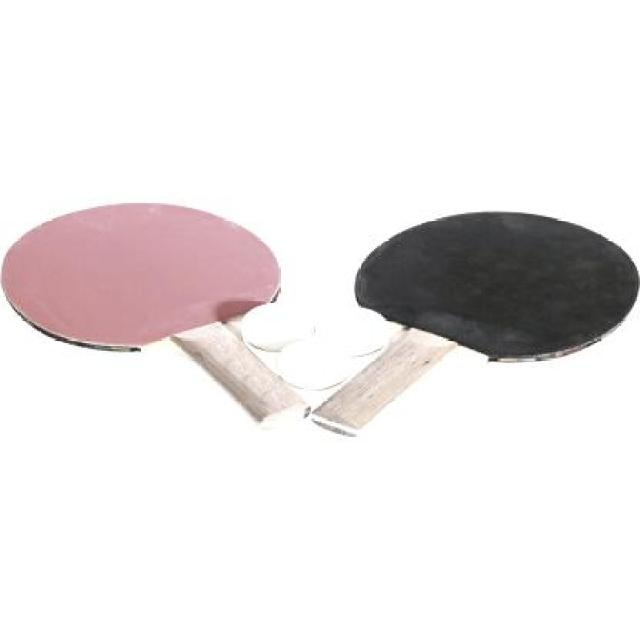table_tennis_racket: (335, 196, 639, 375), (0, 194, 283, 351)
